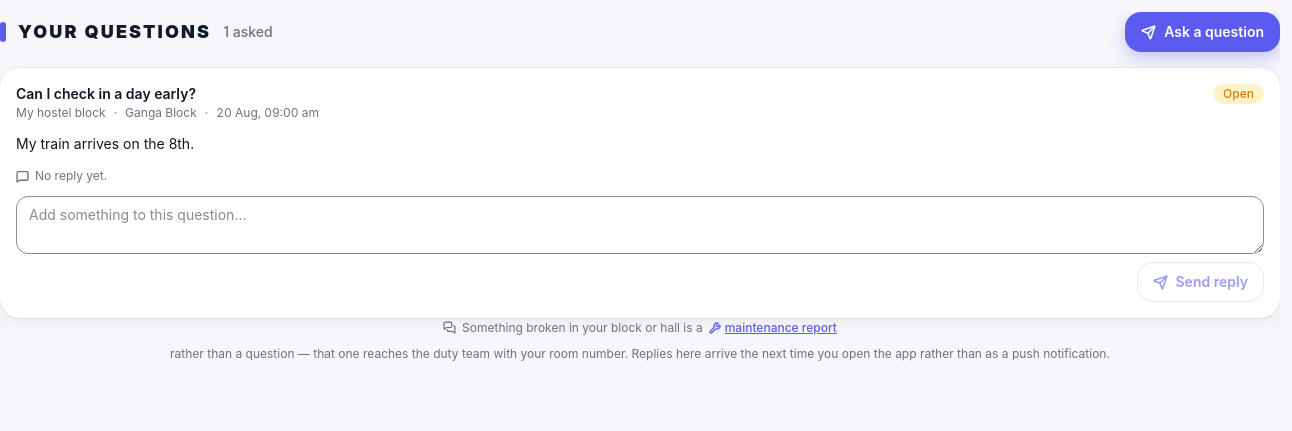
Test: AskPanel › lets the asker add to their own thread
The width and height of the screenshot is (1292, 431).
expect the heading "Can I check in a day early?" is shown: met, box [16,85,196,102]
Click the text box with placeholder "Add something to this question…".
click(640, 225)  # box [16,196,1264,254]
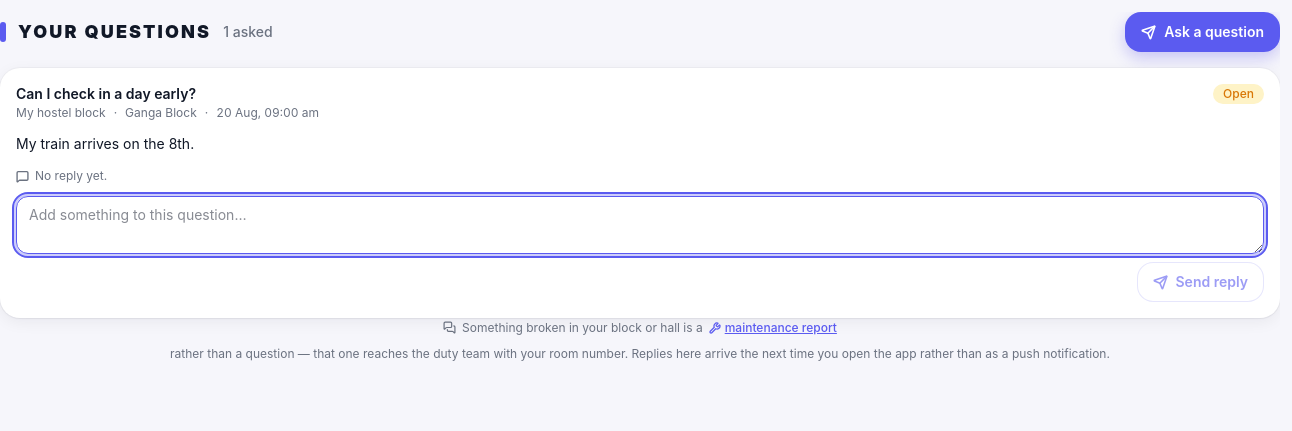
Type keys "Still waiting on this."
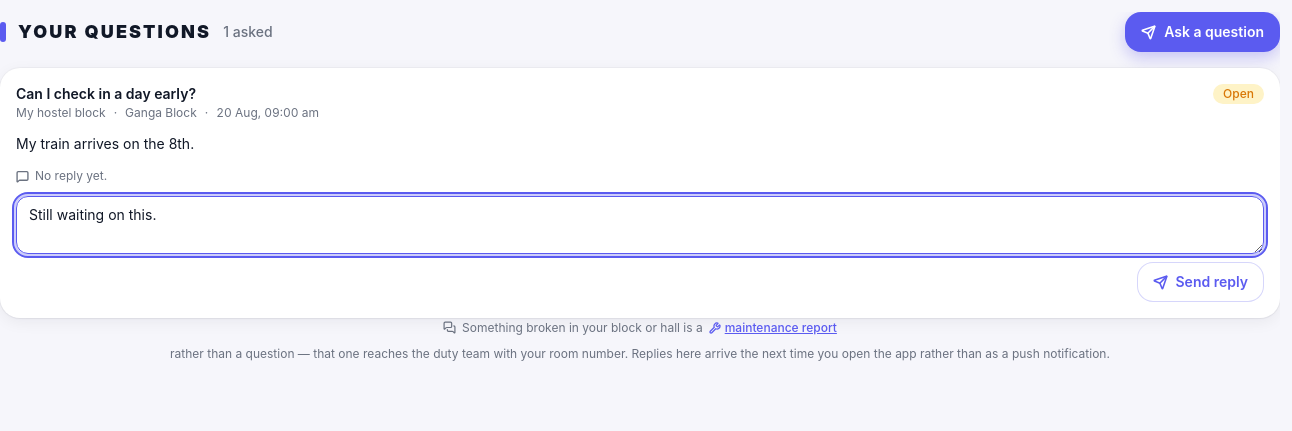
Click the button "Send reply".
click(1200, 282)  # box [1136,262,1264,302]
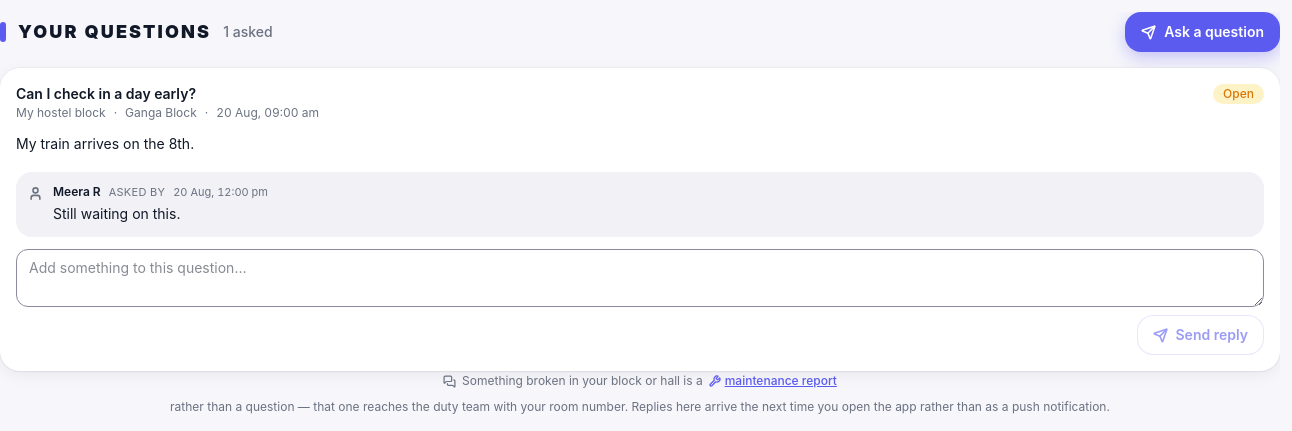
expect the text "Still waiting on this." is shown: met, box [53,204,180,222]
